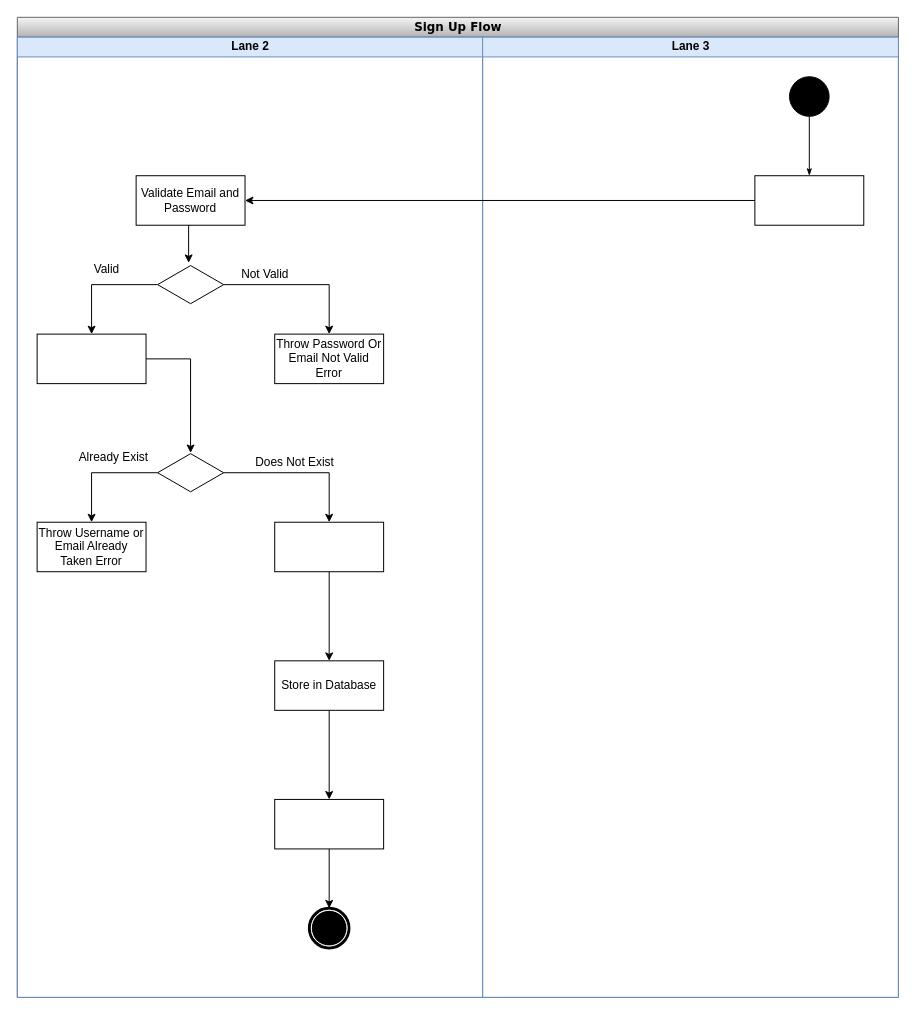
Some shapes in this 916 by 1015 pixel diagram are drawn without their labels. Each missing label, with the box of its shape:
Check if Username or Email Already Exist: (36, 333, 146, 384)
Hash The Password: (274, 521, 384, 572)
Send User JWT Token: (274, 798, 384, 849)
Send Username, Email and Password: (754, 175, 864, 225)
